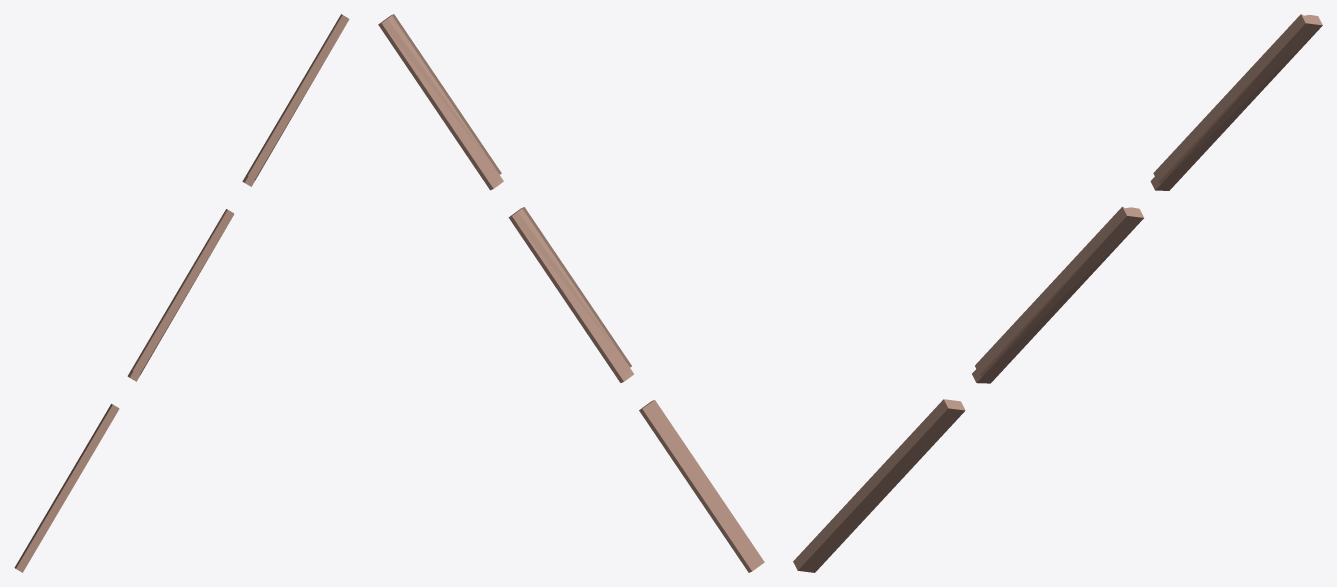
3 renders of one model, left to right at view 1: azimuth 30°, elevation 25°; view 2: azimuth 150°, elevation 25°; view 3: azimuth 330°, elevation 25°, orthographic. The views are drawn at different scales.
Visible parts, largest first — view 1: mesh; view 2: mesh; view 3: mesh.
Part boxes in pixels (bbox=[...]): mesh: bbox=[14, 14, 349, 572]; mesh: bbox=[378, 14, 764, 572]; mesh: bbox=[793, 14, 1322, 572].
Size of the model in its own units: 5.41 by 6.84 by 0.6502.
